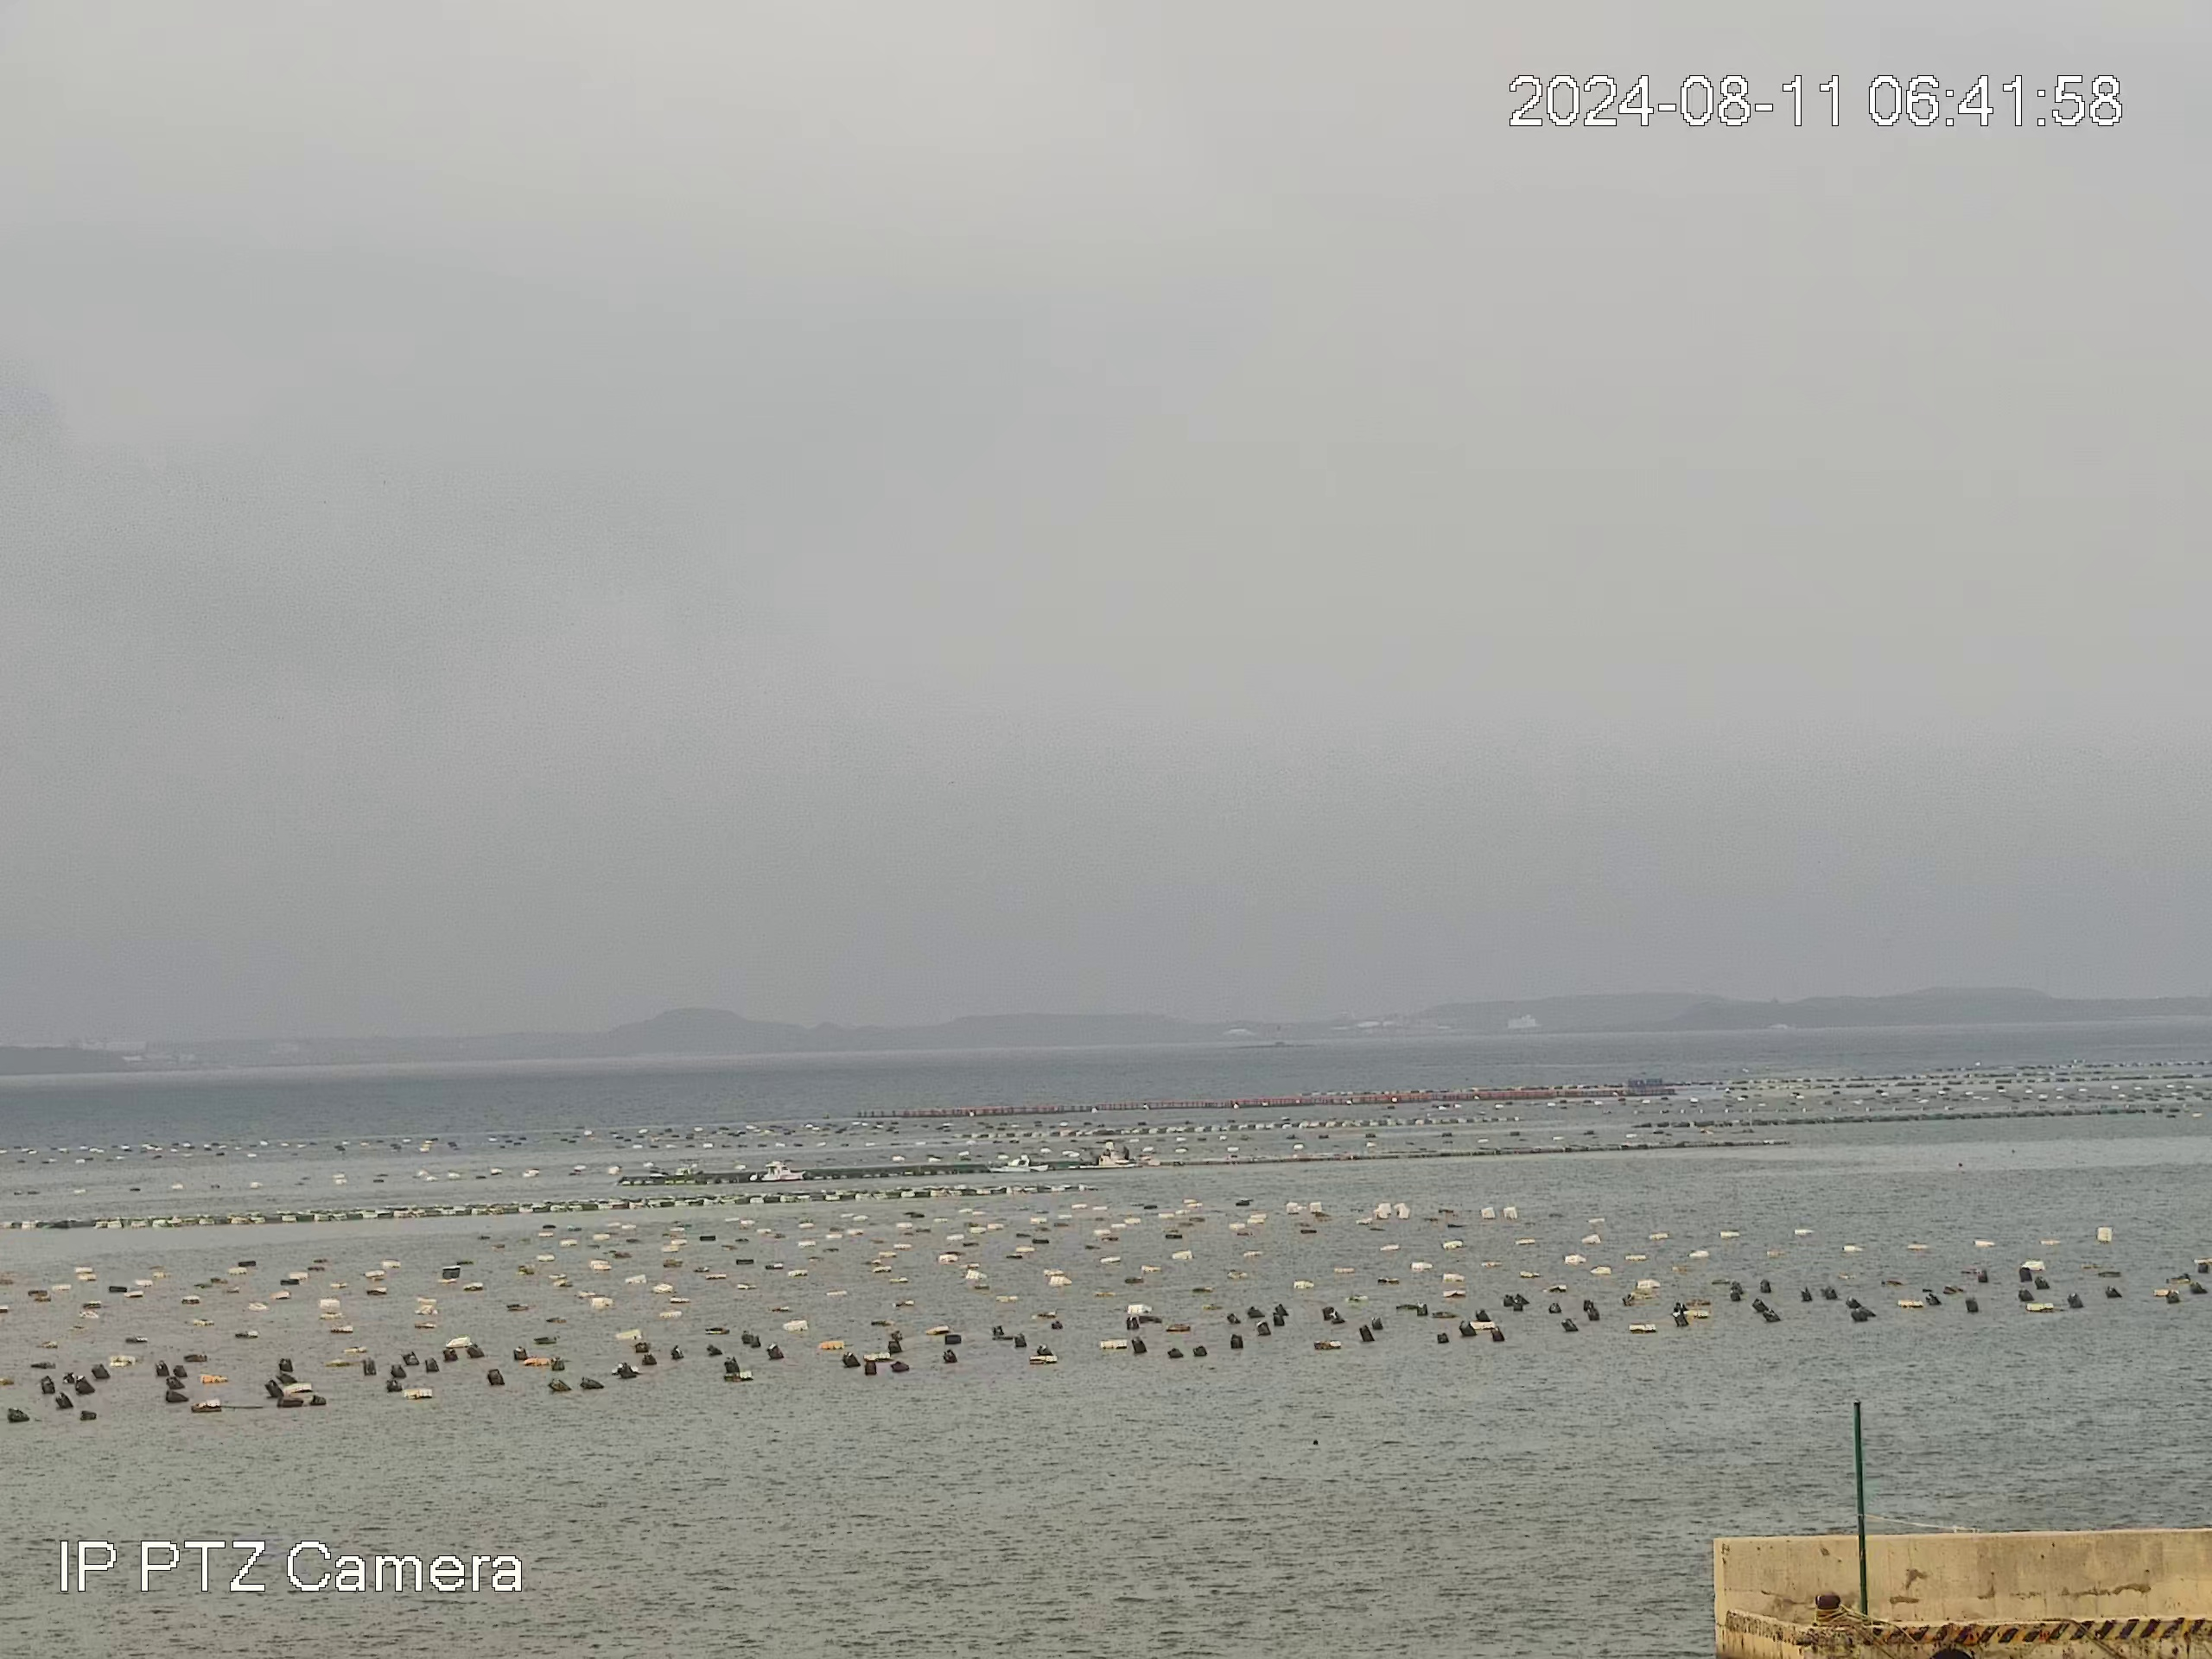boat: (984, 1152, 1049, 1175), (745, 1161, 806, 1183), (1066, 1152, 1127, 1169)
